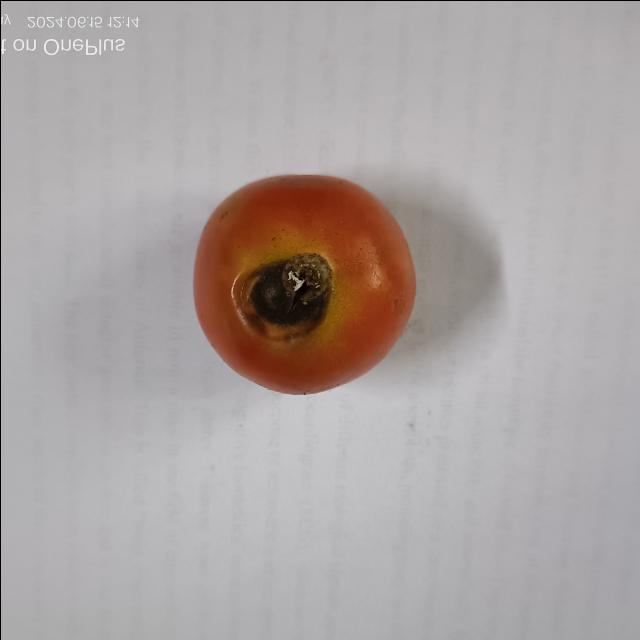Anthrocnose: (230, 254, 334, 340)
